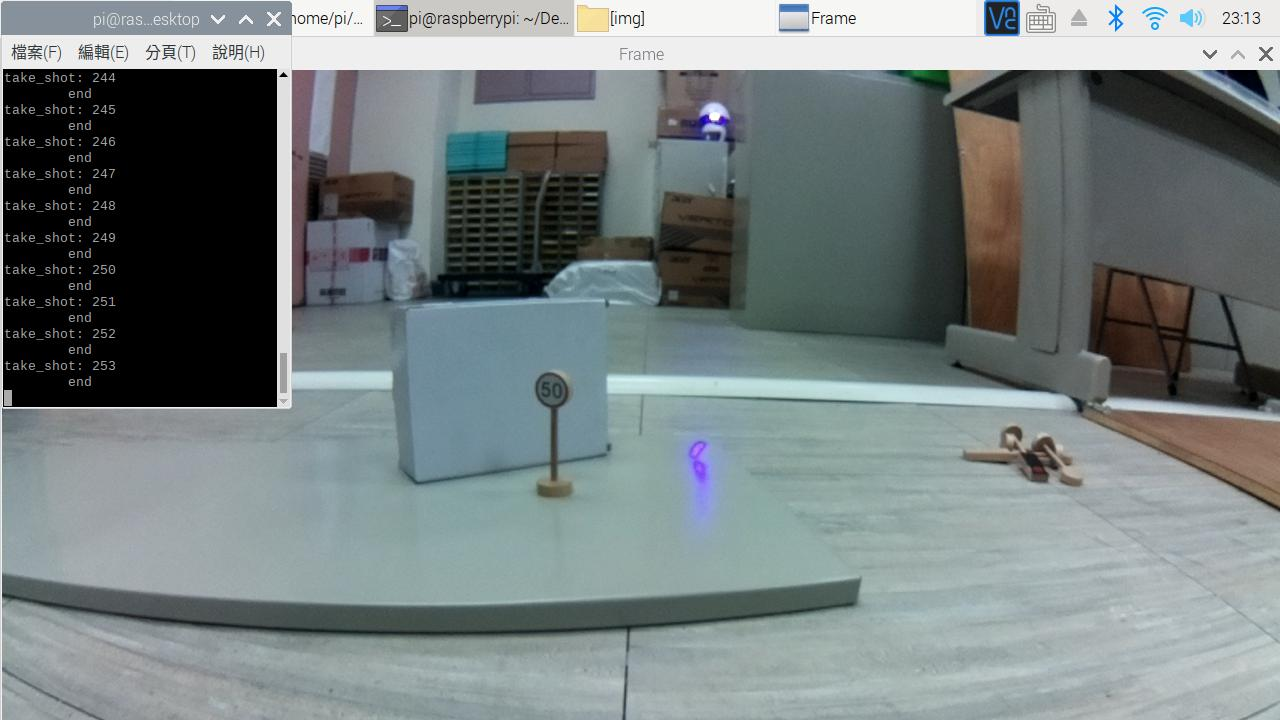Speed50: (525, 368, 583, 424)
